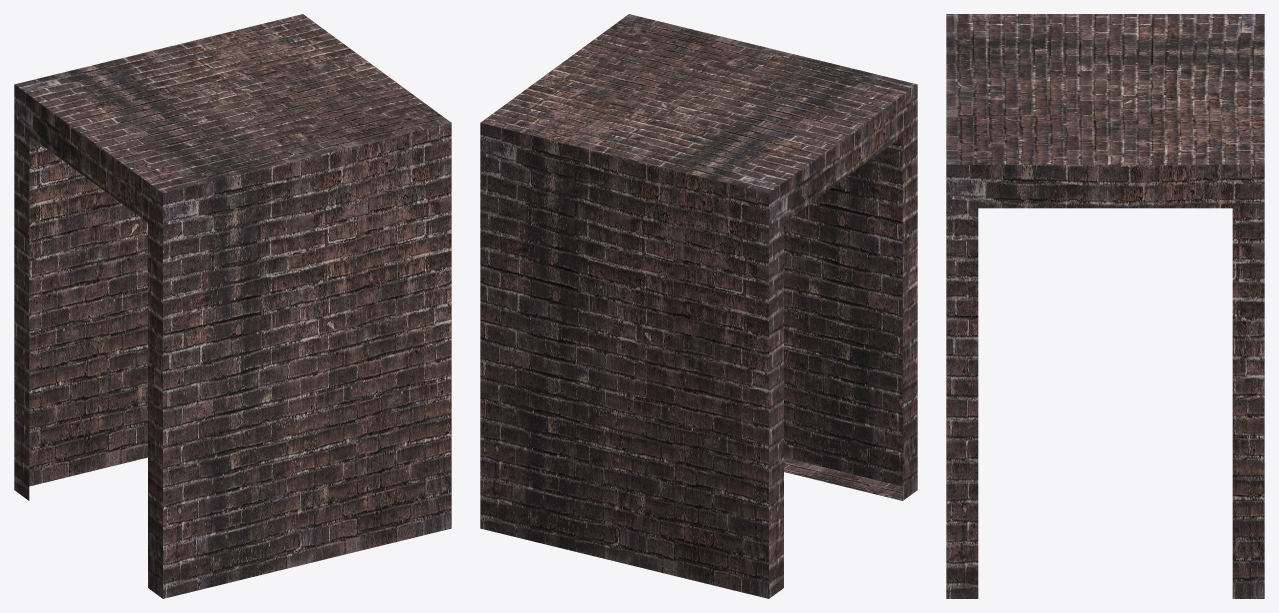
File: robot spawner.FBX
3 views of the same model, side by side, from view 1: azimuth 30°, elevation 25°; view 2: azimuth 150°, elevation 25°; view 3: azimuth 270°, elevation 25° (orthographic). The views are drawn at different scales.
Parts seen in each view (by area): view 1: Box001; view 2: Box001; view 3: Box001.
Part boxes in pixels (<box>): Box001: <box>14,14,451,598</box>; Box001: <box>480,14,917,598</box>; Box001: <box>946,14,1264,598</box>.
Bounding box in the file's own units: 35.46 × 47.64 × 31.64.
1 material, 1 textured.
